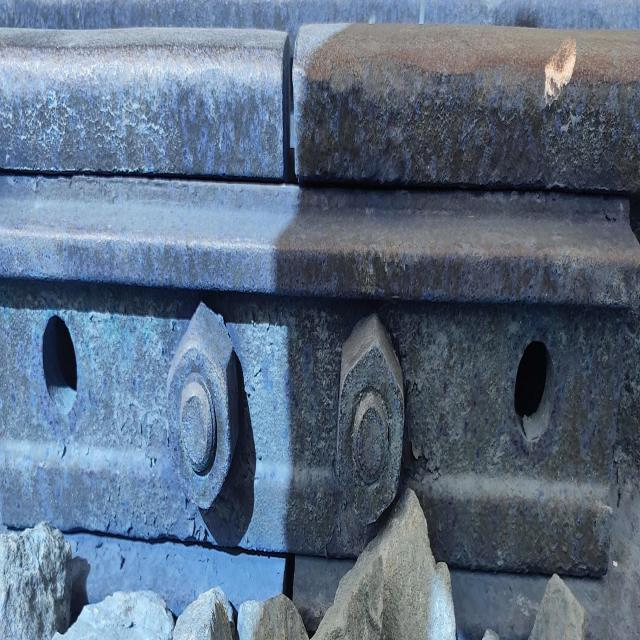Defective Joint: (2, 169, 638, 578)
